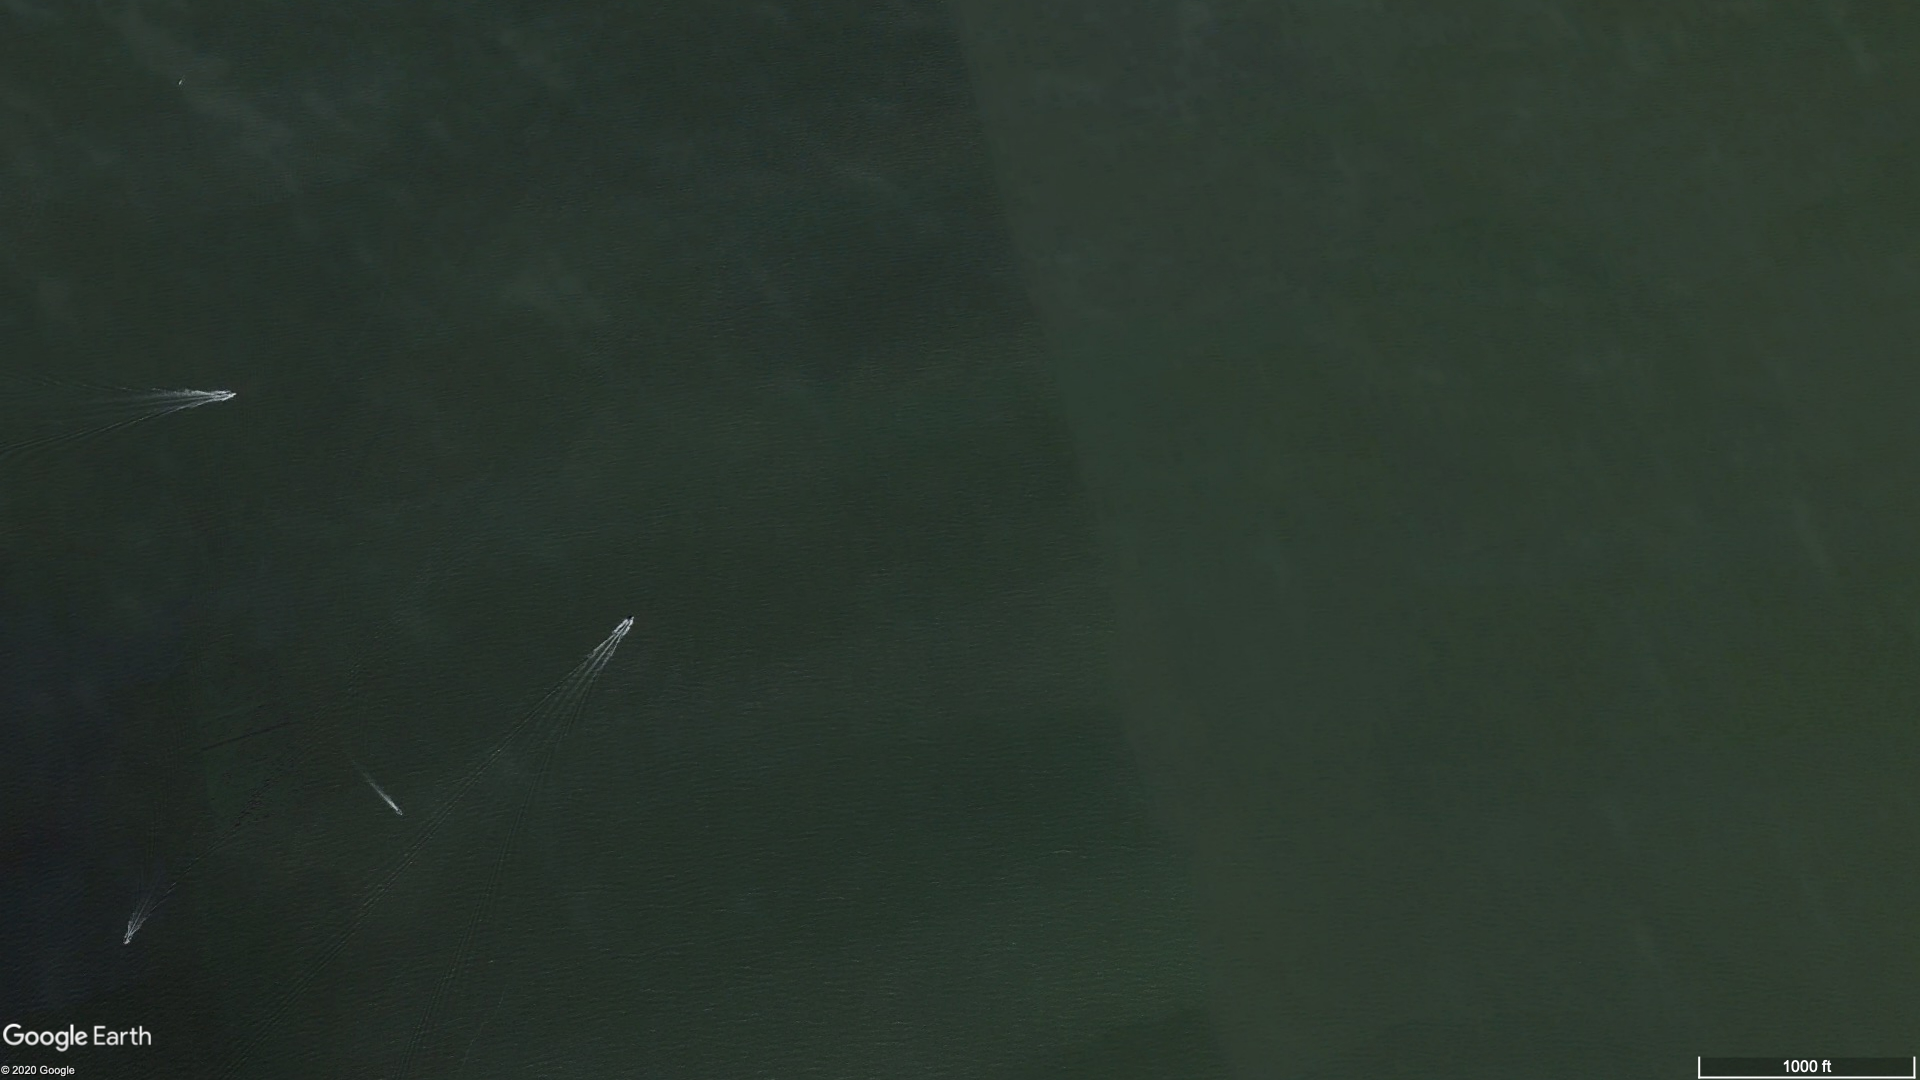boat: (622, 615, 637, 626), (220, 389, 236, 400), (123, 938, 131, 945), (396, 810, 404, 816), (178, 80, 182, 84)
